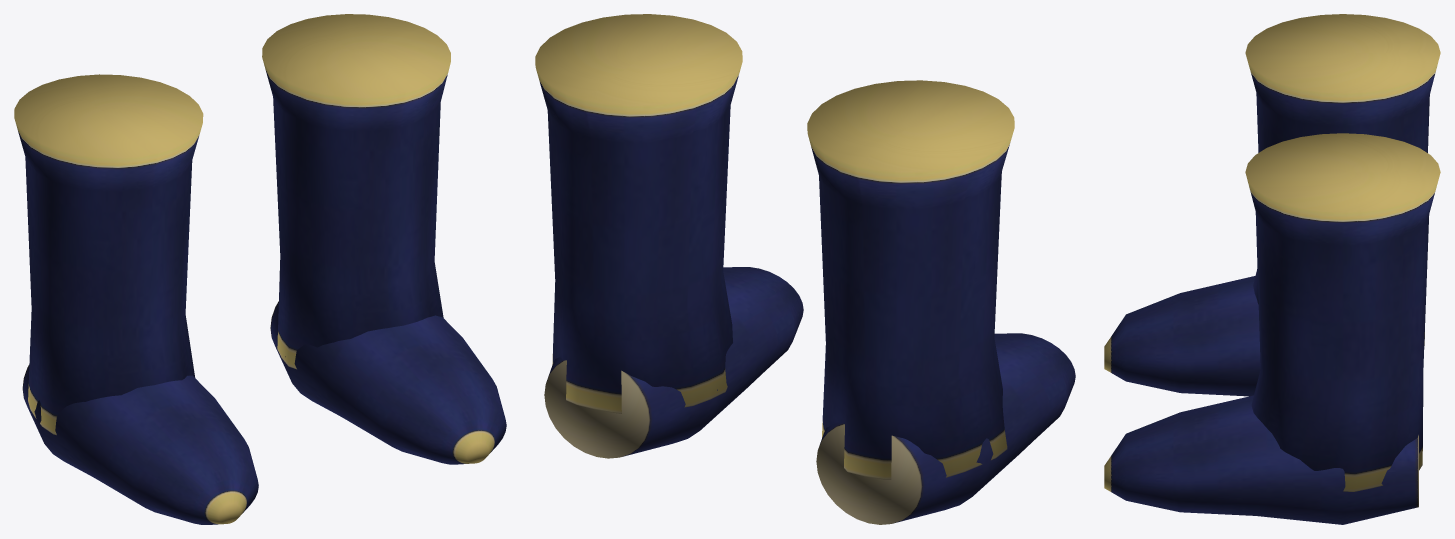
File: night_boots_feet.glb
The picture shows the model from 3 angles, left to right: view 1: azimuth 30°, elevation 25°; view 2: azimuth 150°, elevation 25°; view 3: azimuth 270°, elevation 25°; orthographic projection. The views are drawn at different scales.
Visible parts, largest first — view 1: night_boots_feet; view 2: night_boots_feet; view 3: night_boots_feet.
Boxes of the visible parts, left/top/right/bottom form: night_boots_feet: left=14, top=14, right=506, bottom=524; night_boots_feet: left=535, top=14, right=1075, bottom=524; night_boots_feet: left=1104, top=14, right=1440, bottom=524.
Size of the model in its own units: 0.55 by 0.4477 by 0.3965.
Materials: 1 (1 with a texture image).
